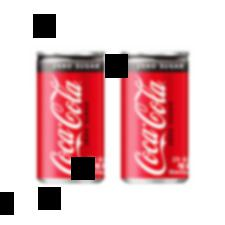cocacola_zero: (34, 48, 107, 185), (119, 48, 188, 186)
